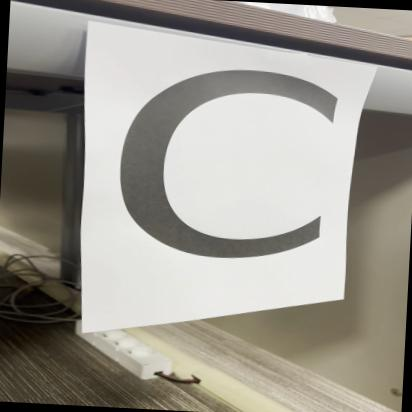seat: (66, 26, 334, 308)
